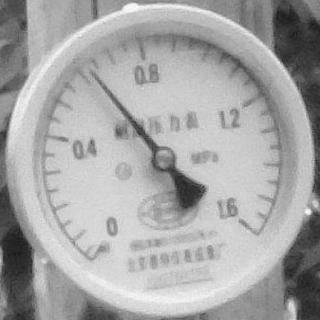gauge: (0, 0, 320, 320), (212, 192, 260, 248), (82, 212, 128, 269), (151, 145, 178, 173), (84, 64, 104, 82)
